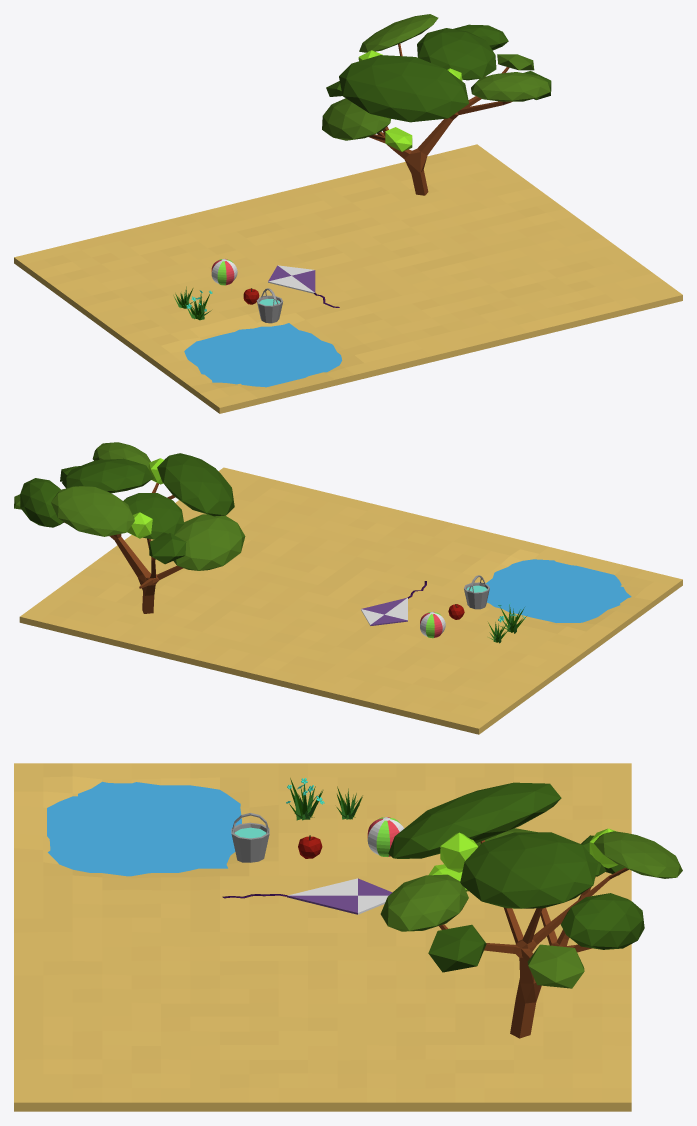
File: SabanaMapProps.fbx
3 renders of one model, top to bottom at view 1: azimuth 30°, elevation 25°; view 2: azimuth 150°, elevation 25°; view 3: azimuth 270°, elevation 25°, orthographic. The views are drawn at different scales.
Visible parts, largest first — view 1: Map, Tree, Kite; view 2: Map, Tree, Kite, Bucket, Ball; view 3: Map, Tree, Kite, Bucket, Ball, GrassFlowers.
Part boxes in pixels (x1,y1,x2,y2): Map: (14, 144, 682, 413); Tree: (322, 14, 551, 195); Kite: (268, 265, 339, 307); Map: (19, 467, 682, 734); Tree: (14, 442, 245, 613); Kite: (361, 581, 426, 625); Bucket: (464, 575, 489, 609); Ball: (420, 611, 445, 638); Map: (14, 763, 631, 1111); Tree: (380, 782, 682, 1038); Kite: (222, 878, 392, 914); Bucket: (231, 813, 269, 862); Ball: (367, 817, 404, 856); GrassFlowers: (289, 778, 323, 820).
Size of the model in its own units: 1067 by 315 by 834.
